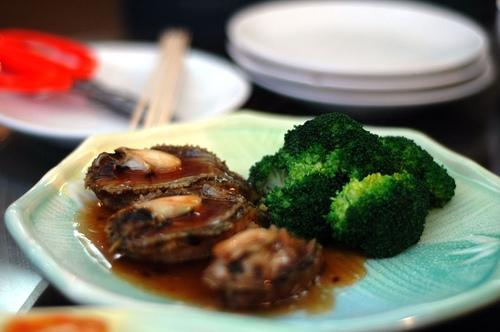broccoli: (322, 170, 431, 258), (282, 112, 399, 180), (262, 169, 350, 241), (378, 136, 456, 211), (248, 154, 289, 198)
